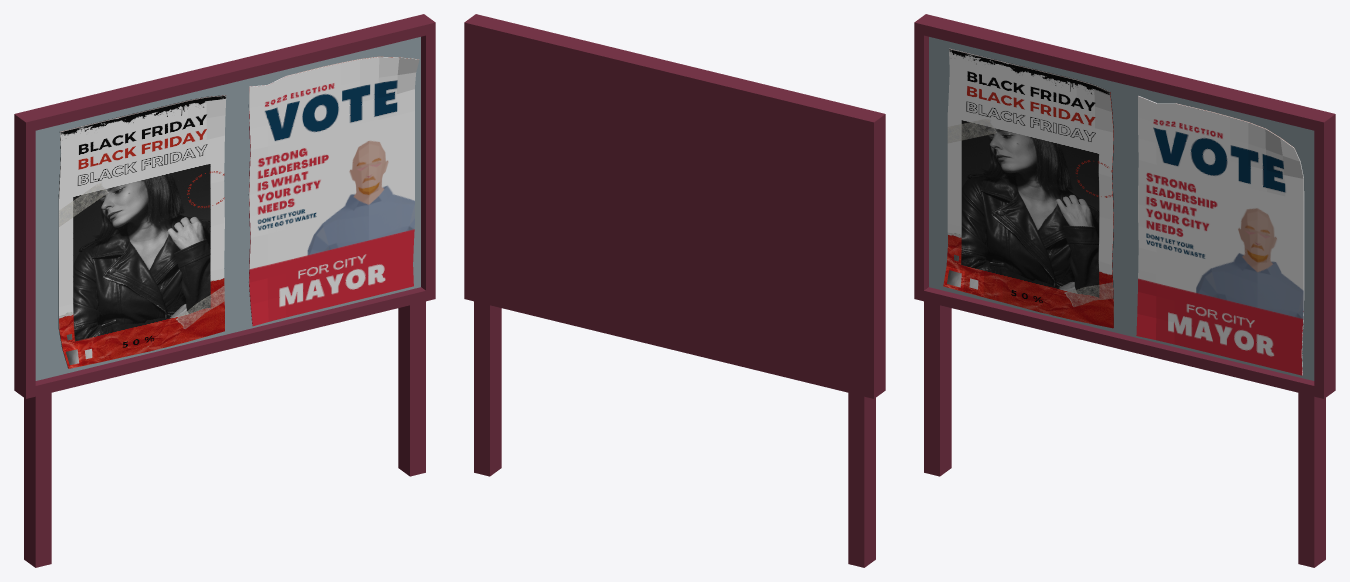
Rendered from banner.fbx.
3 views of the same model, side by side, from view 1: azimuth 30°, elevation 25°; view 2: azimuth 150°, elevation 25°; view 3: azimuth 330°, elevation 25° (orthographic).
Visible parts, largest first — view 1: banner, banner_blackFriday, banner_election_eng; view 2: banner; view 3: banner, banner_blackFriday, banner_election_eng.
Boxes of the visible parts, x1=… form: banner: x1=14, y1=14, x2=435, y2=567; banner_blackFriday: x1=58, y1=95, x2=226, y2=368; banner_election_eng: x1=248, y1=56, x2=419, y2=326; banner: x1=464, y1=14, x2=885, y2=567; banner: x1=914, y1=14, x2=1335, y2=567; banner_blackFriday: x1=943, y1=48, x2=1113, y2=328; banner_election_eng: x1=1136, y1=96, x2=1304, y2=375.
Bounding box in the file's own units: 310 × 324 × 24.33.
